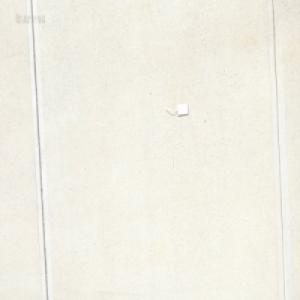LuggageTag: (165, 102, 188, 118)
